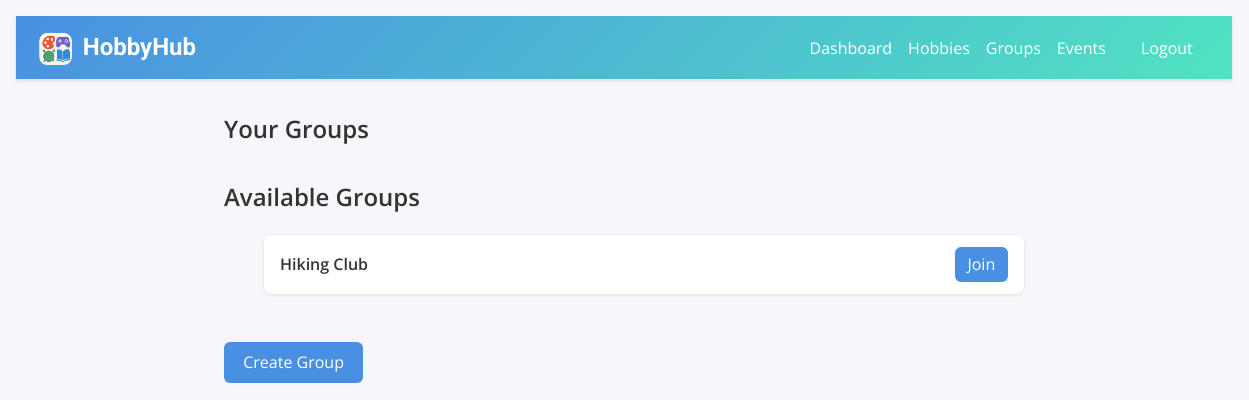
Scenario: Groups page › refreshes groups after joining
Click the button "Join" at [981, 264], box [955,247,1008,282]
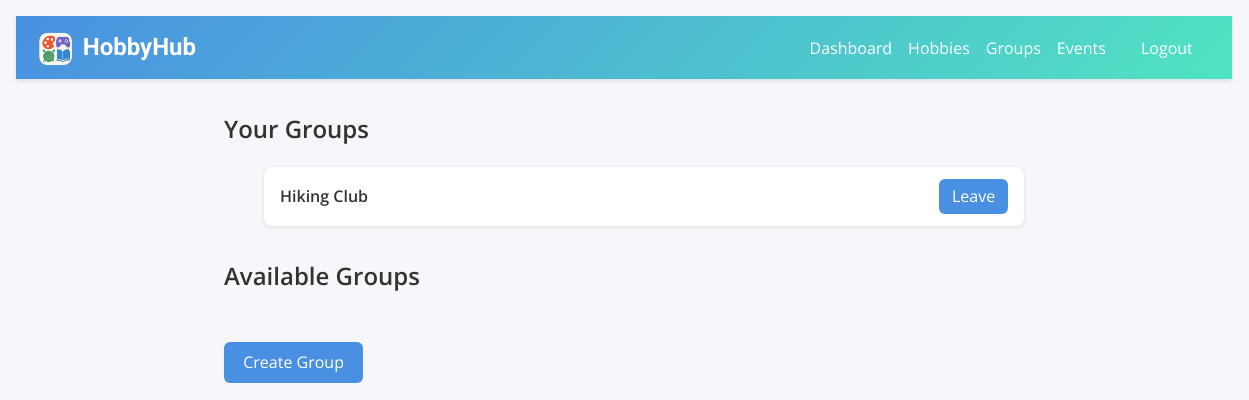
Result: the button "Leave" is shown at [939,179,1008,214]
